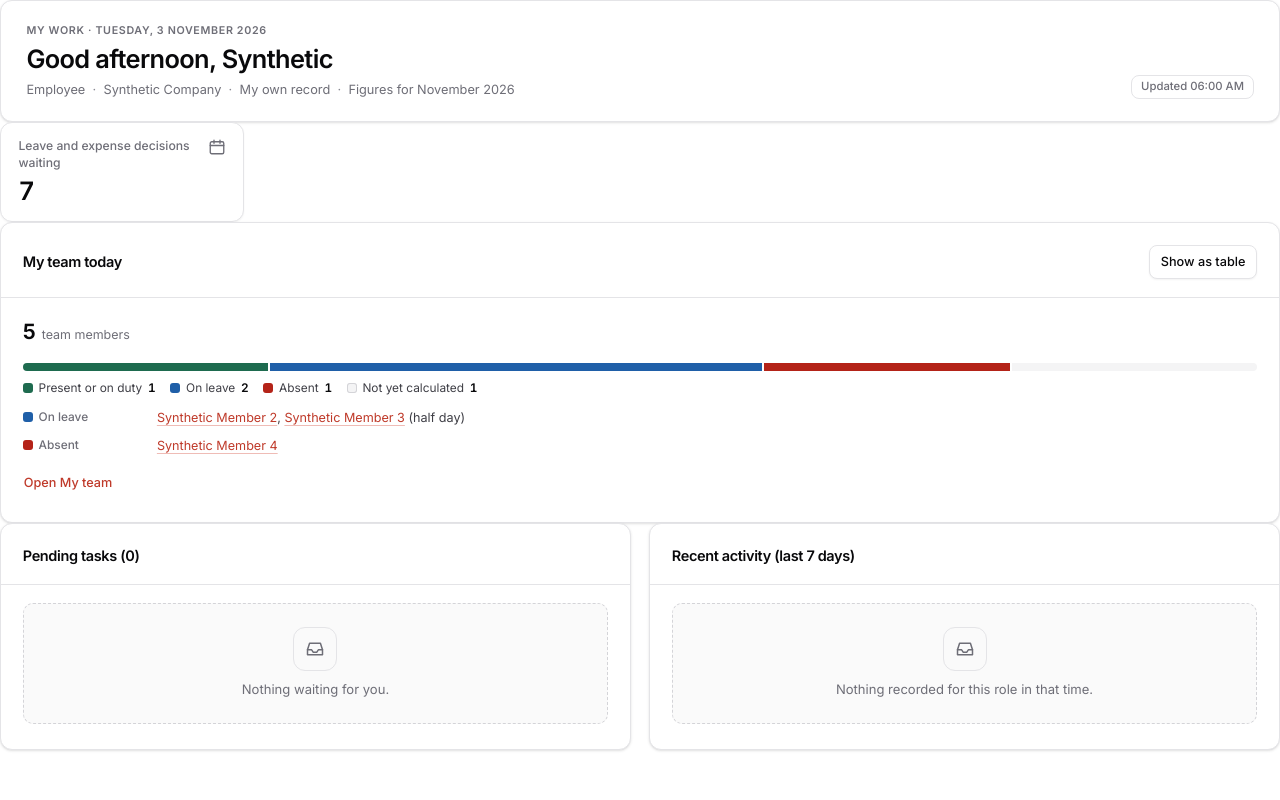
Scenario: My team today (team.list.operational) › the table view gives every group its count and members
The width and height of the screenshot is (1280, 800).
Click the button "Show as table": click(1203, 262) [1149, 245, 1257, 279]
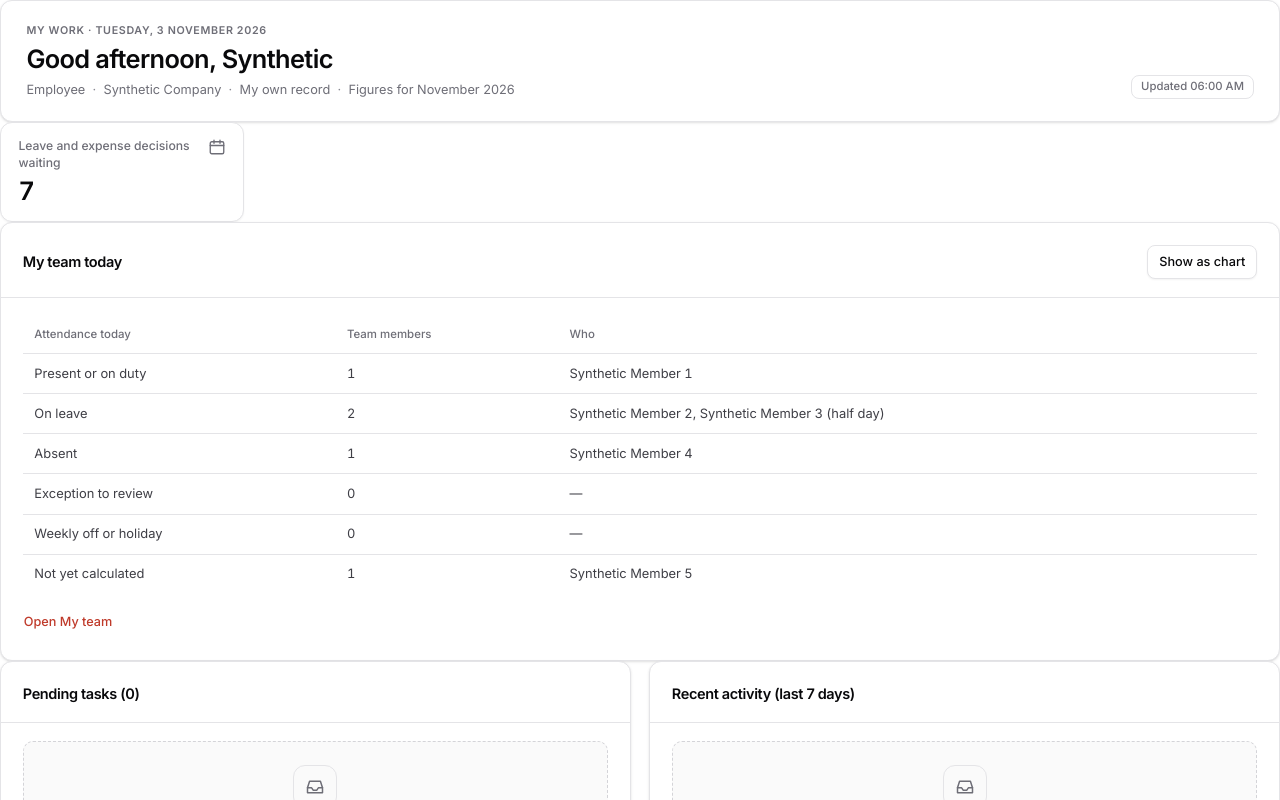
Check: the column headings read "Attendance today", "Team members", "Who", in this order, box [23, 316, 335, 354]; [335, 316, 558, 354]; [558, 316, 1257, 354]
